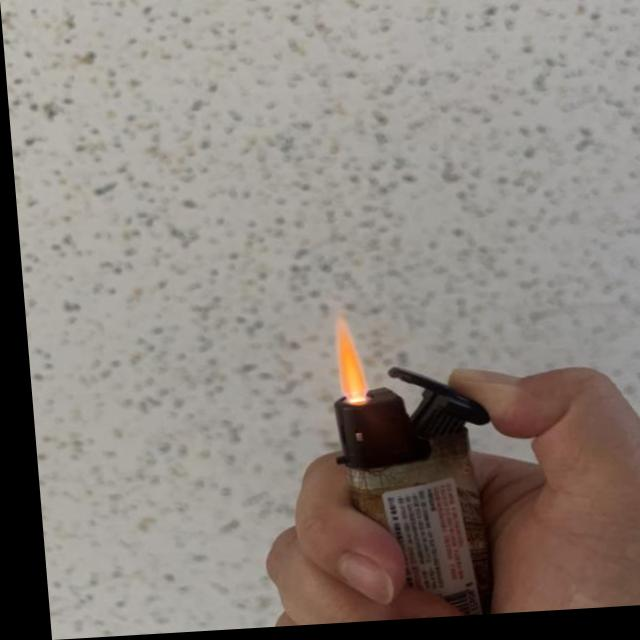Fire: (327, 320, 363, 402)
